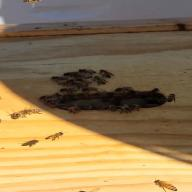Bee: (149, 174, 183, 192), (12, 105, 46, 118), (43, 130, 71, 144), (98, 68, 115, 80)
